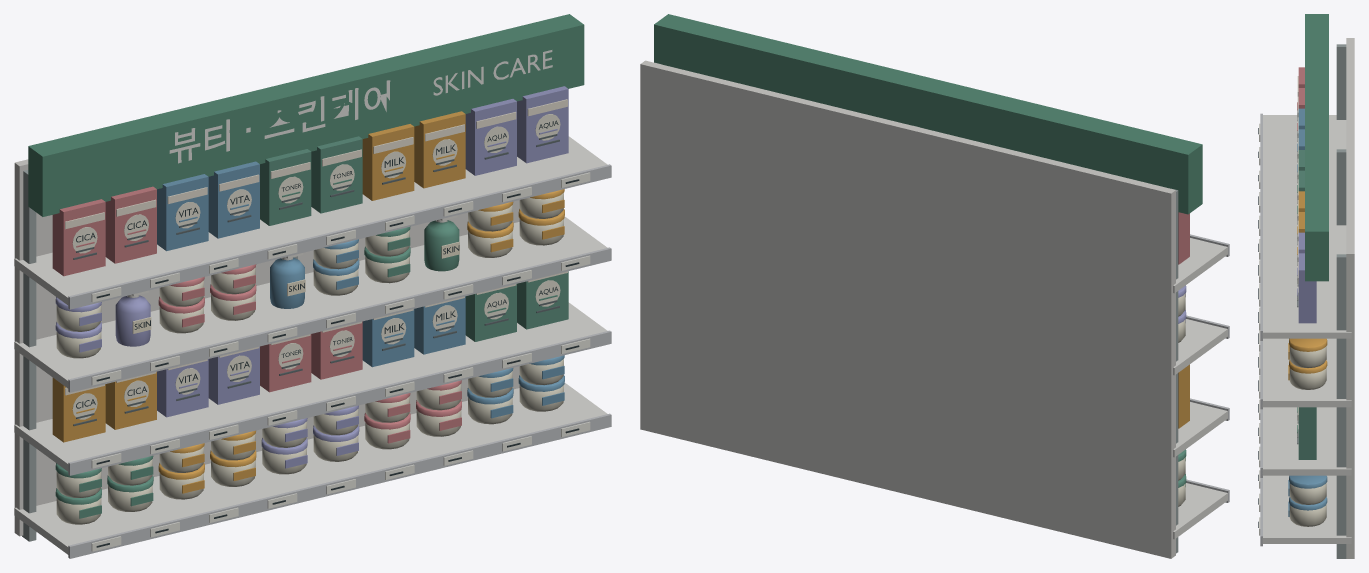
The model's file is CosmeticPads.glb.
3 renders of one model, left to right at view 1: azimuth 30°, elevation 25°; view 2: azimuth 150°, elevation 25°; view 3: azimuth 270°, elevation 25°, orthographic. The views are drawn at different scales.
Parts seen in each view (by area): view 1: CosmeticPads; view 2: CosmeticPads; view 3: CosmeticPads.
Part boxes in pixels (x1,y1,x2,y2): CosmeticPads: [14, 14, 611, 558]; CosmeticPads: [640, 14, 1229, 558]; CosmeticPads: [1258, 14, 1354, 558].
Bounding box in the file's own units: 3 × 2.12 × 0.562.
